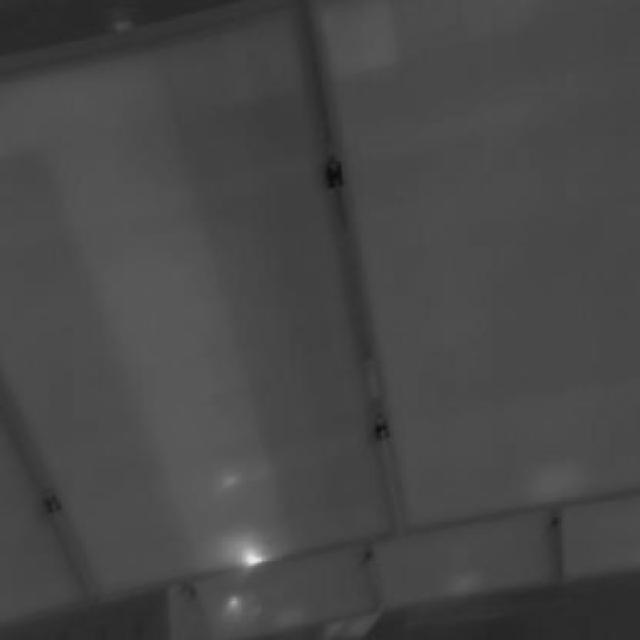hotspot: (218, 592, 264, 617), (239, 539, 266, 567)
